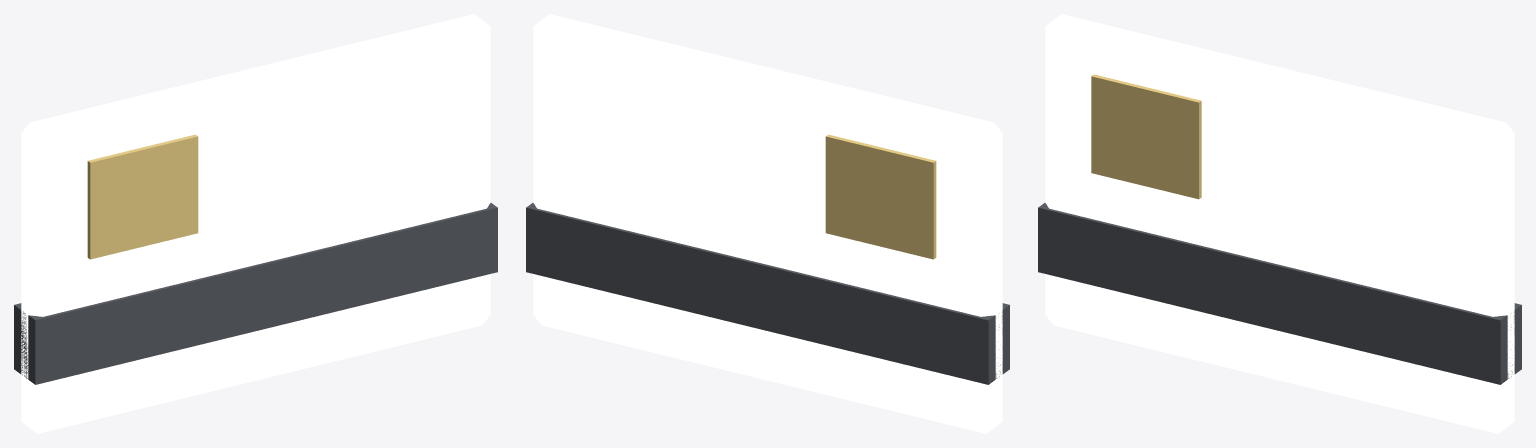
File: item_keycard.glb
The picture shows the model from 3 angles, left to right: view 1: azimuth 30°, elevation 25°; view 2: azimuth 150°, elevation 25°; view 3: azimuth 330°, elevation 25°; orthographic projection.
Visible parts, largest first — view 1: keycard; view 2: keycard; view 3: keycard.
Boxes of the visible parts, x1,y1,x2,y2 form: keycard: (14, 14, 497, 433); keycard: (526, 14, 1009, 433); keycard: (1038, 14, 1521, 433).
Bounding box in the file's own units: 0.3 × 0.19 × 0.026.
